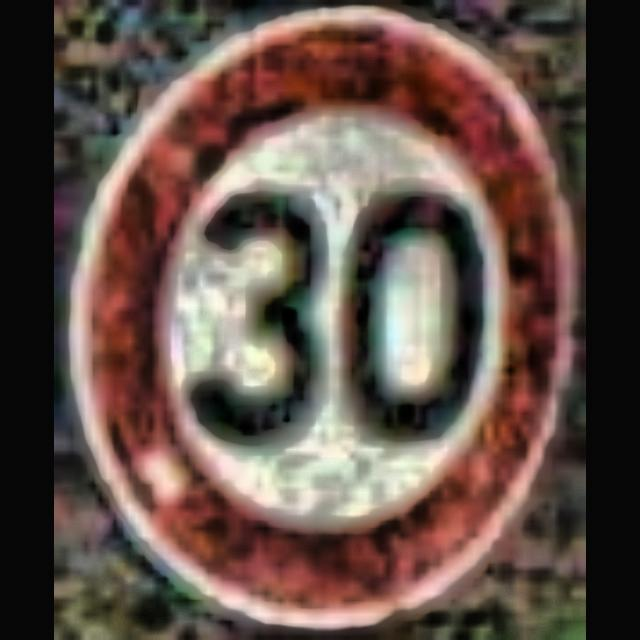speed_30: (91, 24, 566, 612)
